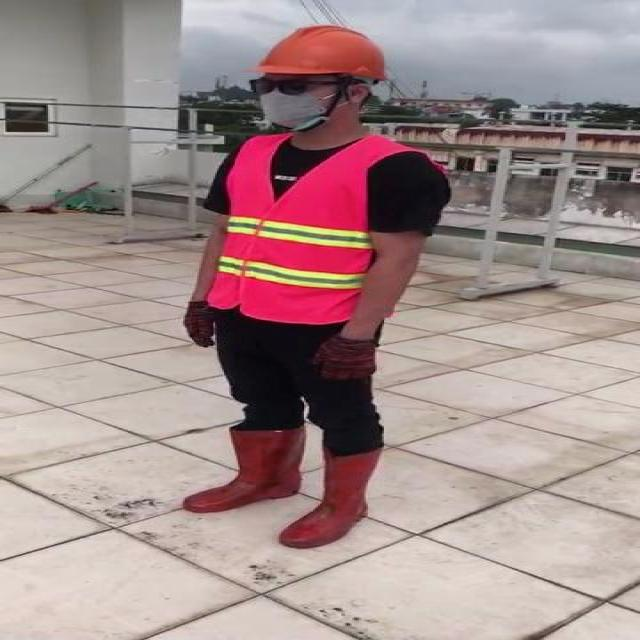boots: (183, 423, 308, 514), (279, 444, 381, 547)
face_mask: (248, 71, 335, 131)
glasses: (245, 72, 318, 100)
hand_glove: (310, 335, 380, 383), (185, 300, 215, 347)
head_helmet: (247, 22, 395, 80)
person: (148, 18, 455, 562)
vest: (214, 136, 388, 319)
